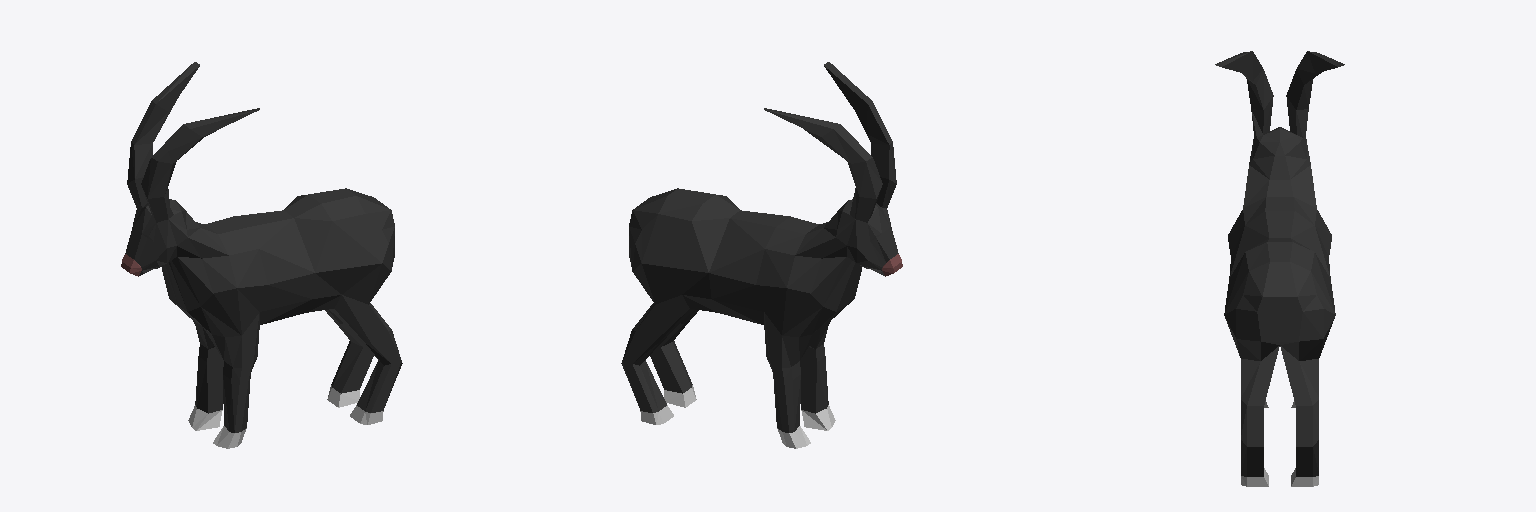
Rendered from Get2.obj.
3 views of the same model, side by side, from view 1: azimuth 30°, elevation 25°; view 2: azimuth 150°, elevation 25°; view 3: azimuth 270°, elevation 25° (orthographic).
Visible parts, largest first — view 1: Get; view 2: Get; view 3: Get.
Boxes of the visible parts, x1,y1,x2,y2 form: Get: [121, 62, 402, 448]; Get: [621, 62, 902, 448]; Get: [1215, 51, 1344, 486].
Bounding box in the file's own units: 4.58 × 5.96 × 2.